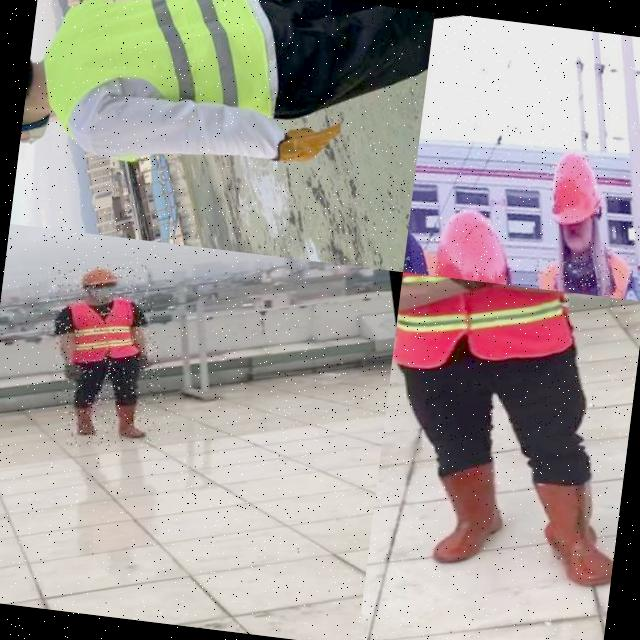boots: (517, 461, 624, 597), (410, 452, 520, 572), (108, 395, 155, 445), (64, 398, 104, 439)
helmet: (417, 198, 528, 286), (536, 144, 612, 230), (74, 258, 122, 292)
vest: (17, 0, 295, 193), (390, 272, 582, 397), (527, 233, 640, 301), (61, 288, 148, 371)
